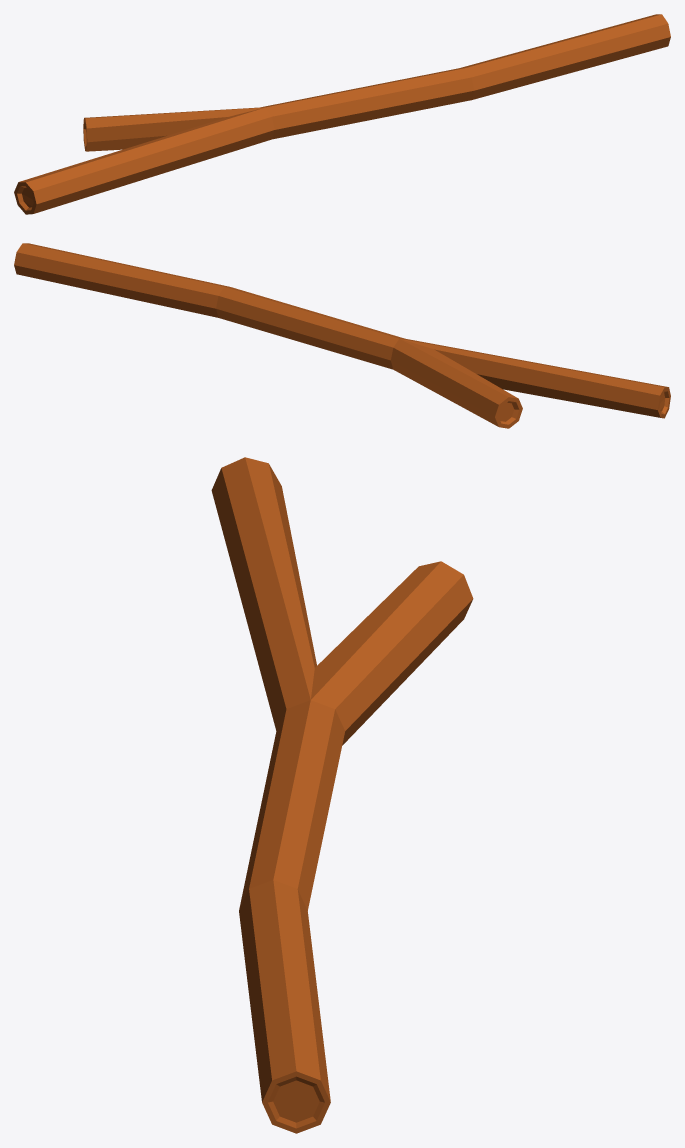
Rendered from WoodStick_02.fbx.
3 views of the same model, one above another, from view 1: azimuth 30°, elevation 25°; view 2: azimuth 150°, elevation 25°; view 3: azimuth 270°, elevation 25° (orthographic). The views are drawn at different scales.
Parts seen in each view (by area): view 1: WoodStick_02; view 2: WoodStick_02; view 3: WoodStick_02.
Boxes of the visible parts, x1,y1,x2,y2 form: WoodStick_02: (14,14,670,214); WoodStick_02: (14,243,670,428); WoodStick_02: (211,457,473,1133).
Size of the model in its own units: 87.59 by 4.19 by 15.73.
